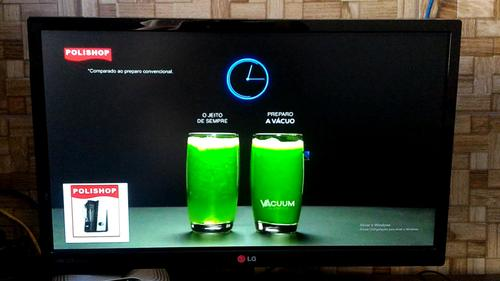Polishop #1: (63, 183, 129, 242)
